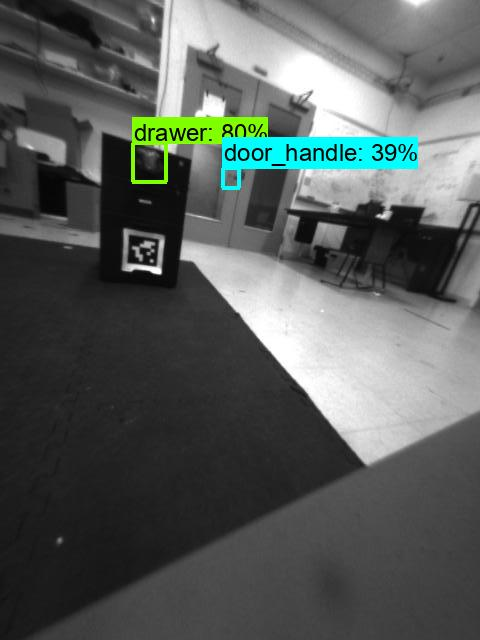door_handle: (224, 169, 241, 189)
drawer: (134, 144, 165, 179)
